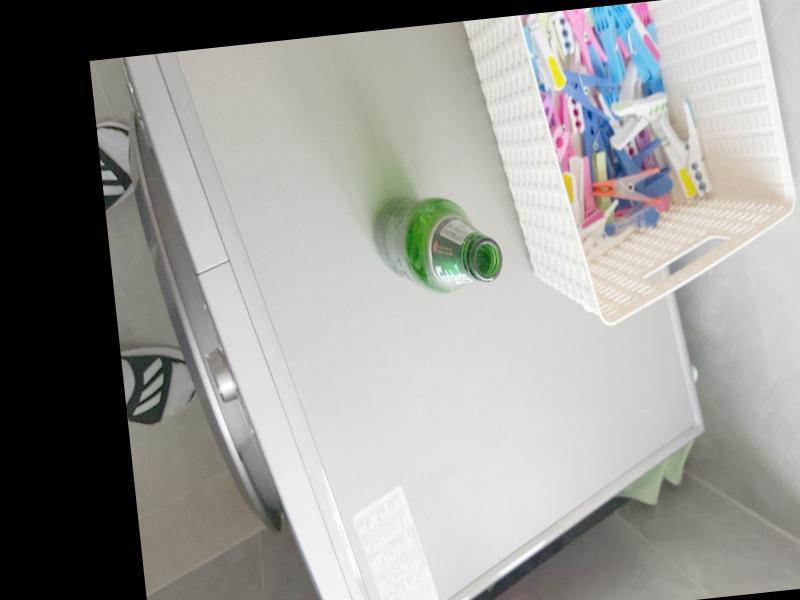Beer: (368, 188, 503, 294)
